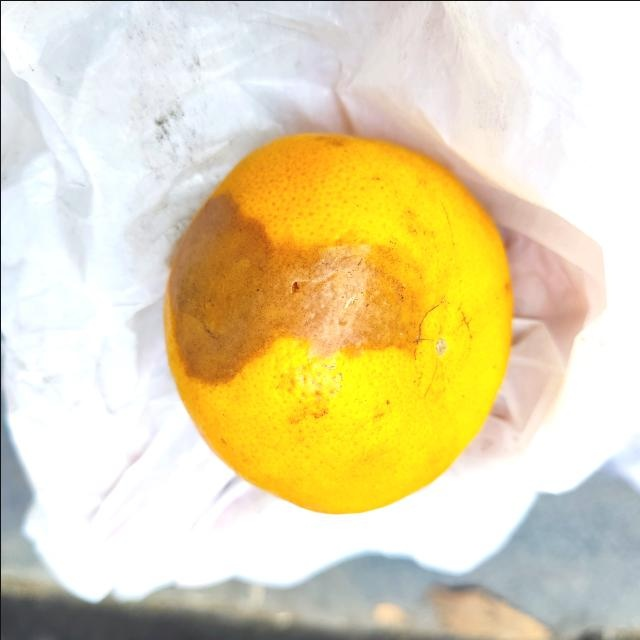agrume: (159, 130, 516, 514)
